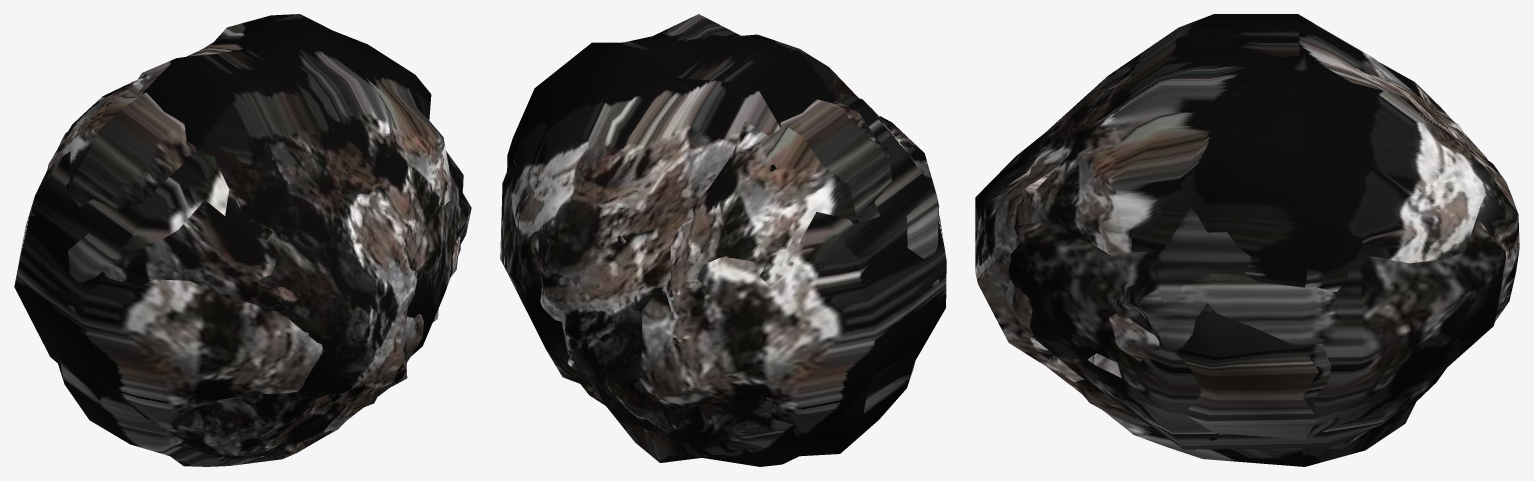
File: sd_ast_demir.glb
3 views of the same model, side by side, from view 1: azimuth 30°, elevation 25°; view 2: azimuth 150°, elevation 25°; view 3: azimuth 270°, elevation 25° (orthographic). The views are drawn at different scales.
Visible parts, largest first — view 1: AST_demir_3, PICK_demir, AST_demir_2, AST_demir_1; view 2: AST_demir_3, PICK_demir, AST_demir_2, AST_demir_1; view 3: AST_demir_3, PICK_demir, AST_demir_2, AST_demir_1.
Part boxes in pixels (<box>): AST_demir_3: <box>55,14,450,466</box>; PICK_demir: <box>14,102,463,423</box>; AST_demir_2: <box>47,72,460,406</box>; AST_demir_1: <box>68,192,471,335</box>; AST_demir_3: <box>507,14,917,466</box>; PICK_demir: <box>500,93,946,436</box>; AST_demir_2: <box>559,99,938,405</box>; AST_demir_1: <box>646,279,939,369</box>; AST_demir_3: <box>975,14,1519,466</box>; PICK_demir: <box>1014,121,1505,449</box>; AST_demir_2: <box>1006,62,1487,450</box>; AST_demir_1: <box>1008,236,1338,354</box>.
Bounding box in the file's own units: 1.07 × 1.01 × 1.15.
1 material, 1 textured.
